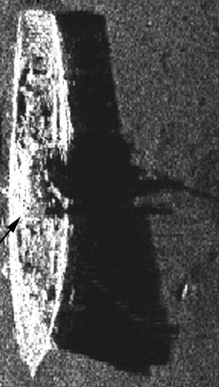ship: (3, 7, 75, 381)
